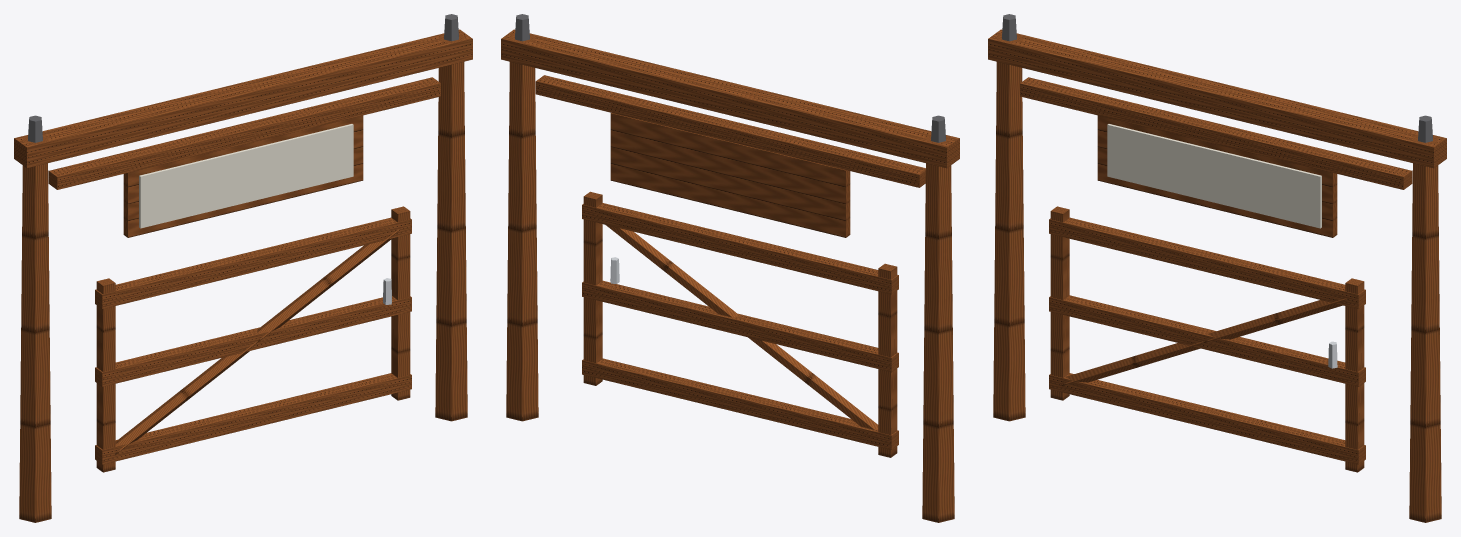
Rendered from gate-godot.glb.
The picture shows the model from 3 angles, left to right: view 1: azimuth 30°, elevation 25°; view 2: azimuth 150°, elevation 25°; view 3: azimuth 330°, elevation 25°; orthographic projection.
Visible parts, largest first — view 1: camp-gate-and-sign-board-timber, gate/timber, camp-gate-and-sign-board-canvas, camp-gate-and-sign-board-charcoal; view 2: camp-gate-and-sign-board-timber, gate/timber, camp-gate-and-sign-board-charcoal; view 3: camp-gate-and-sign-board-timber, gate/timber, camp-gate-and-sign-board-canvas, camp-gate-and-sign-board-charcoal.
Boxes of the visible parts, x1,y1,x2,y2 form: camp-gate-and-sign-board-timber: [14, 29, 472, 522]; gate/timber: [95, 206, 411, 472]; camp-gate-and-sign-board-canvas: [139, 124, 353, 228]; camp-gate-and-sign-board-charcoal: [28, 14, 458, 142]; camp-gate-and-sign-board-timber: [501, 29, 959, 522]; gate/timber: [582, 191, 898, 457]; camp-gate-and-sign-board-charcoal: [515, 14, 945, 142]; camp-gate-and-sign-board-timber: [988, 29, 1446, 522]; gate/timber: [1049, 206, 1365, 472]; camp-gate-and-sign-board-canvas: [1107, 124, 1321, 228]; camp-gate-and-sign-board-charcoal: [1002, 14, 1432, 142].
Bounding box in the file's own units: 3.62 × 3.06 × 0.3457.
Materials: 4 (1 with a texture image).
